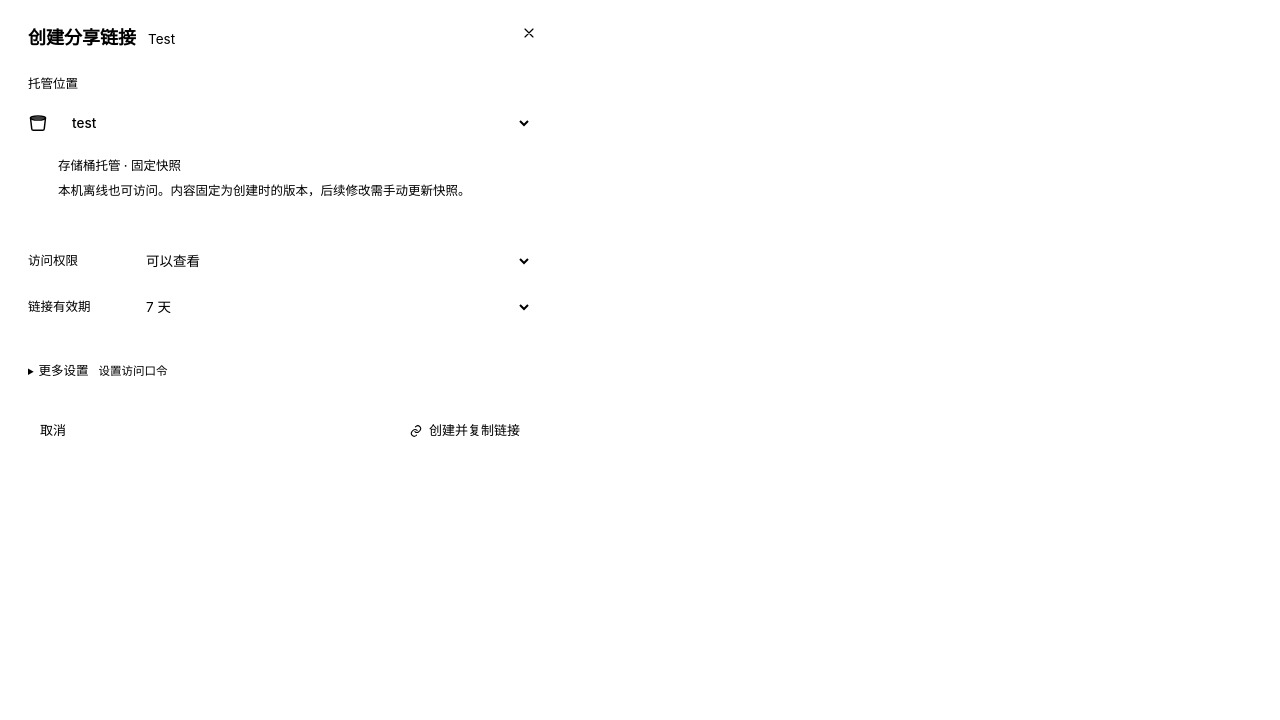
Test: snapshot creation sends finite expiry and clipboard failure keeps a manual-copy fallback
What coordinates should you click on to do the following:
click the button "创建并复制链接"
I would click on:
 (464, 431)
Its box is top-left (397, 413), bottom-right (532, 449).
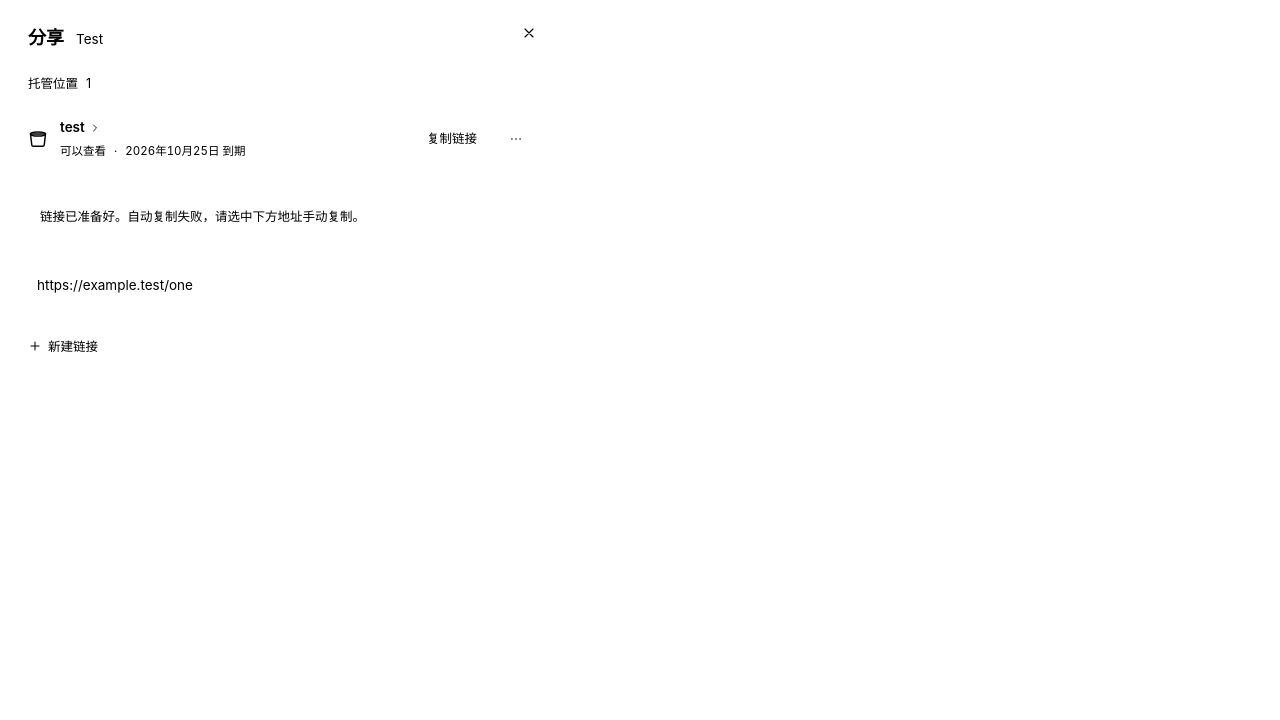
Result: the text "自动复制失败" is shown at top-left (40, 209), bottom-right (365, 224)
Result: the field named "分享链接" holds "https://example.test/one" at top-left (28, 269), bottom-right (532, 303)
What coordinates should you click on to do the following:
click the button "新建链接"
I would click on:
 (63, 346)
Its box is top-left (28, 331), bottom-right (98, 362).
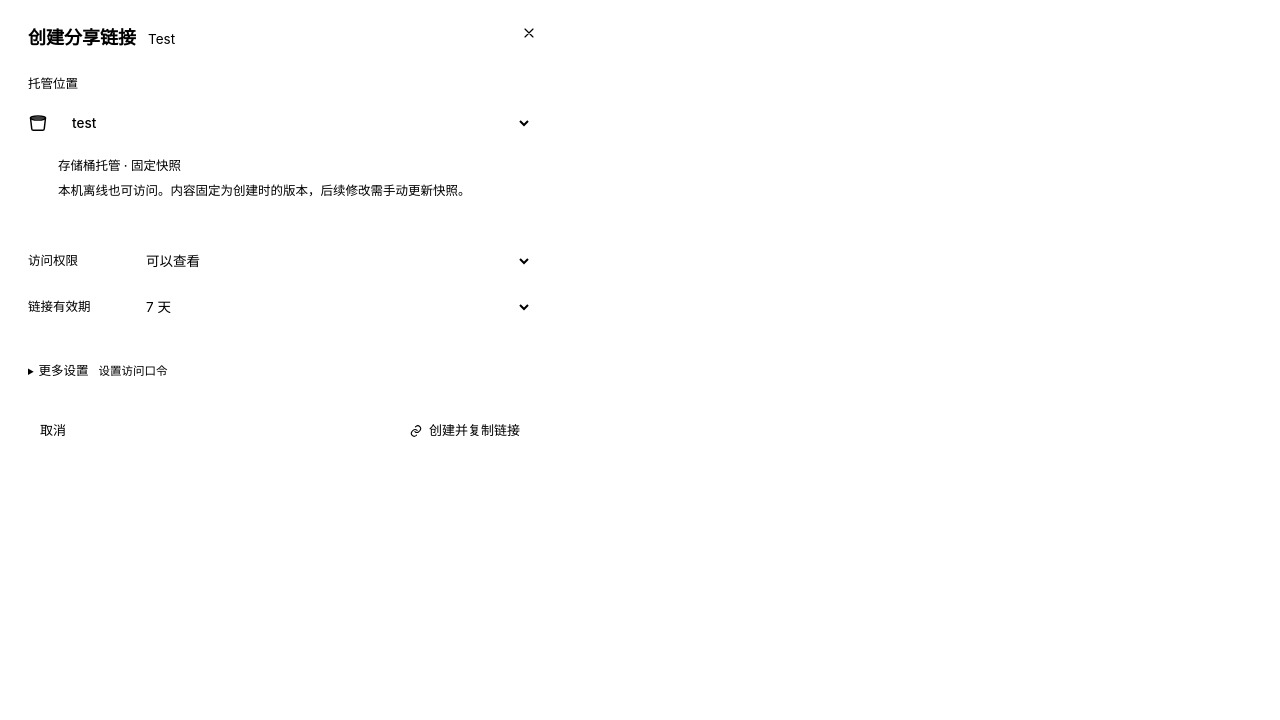
Result: the list named "分享链接" is gone
